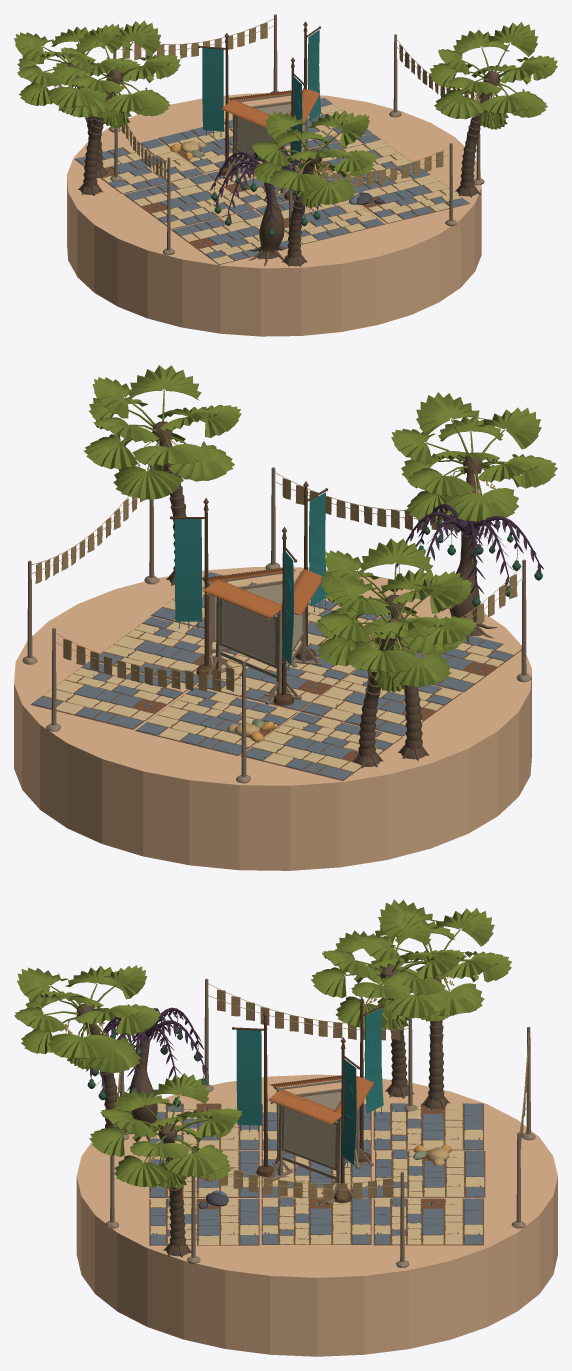
The model's file is nomad_shrine_plaza.fbx.
3 views of the same model, one above another, from view 1: azimuth 30°, elevation 25°; view 2: azimuth 150°, elevation 25°; view 3: azimuth 270°, elevation 25° (orthographic). The views are drawn at different scales.
Parts seen in each view (by area): view 1: NomadShrinePlaza; view 2: NomadShrinePlaza; view 3: NomadShrinePlaza.
Boxes of the visible parts, x1=… form: NomadShrinePlaza: x1=14, y1=14, x2=557, y2=336; NomadShrinePlaza: x1=14, y1=365, x2=557, y2=870; NomadShrinePlaza: x1=14, y1=899, x2=557, y2=1356.
Bounding box in the file's own units: 2707 × 1339 × 2629.
